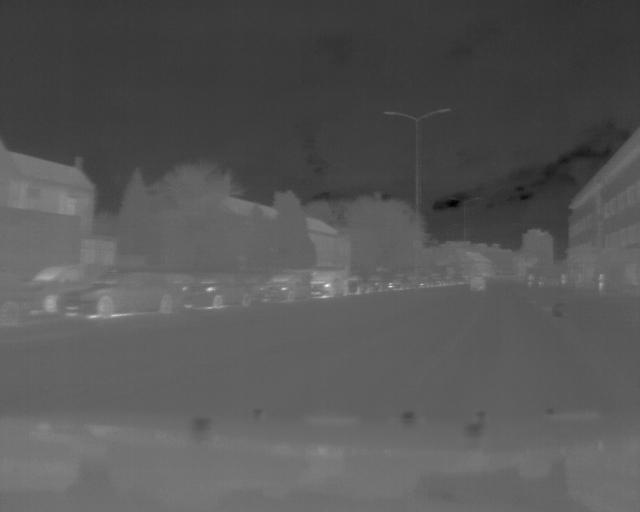car: (63, 268, 178, 318), (182, 273, 254, 309), (261, 273, 313, 303), (313, 270, 351, 300)
person: (596, 270, 607, 297)
